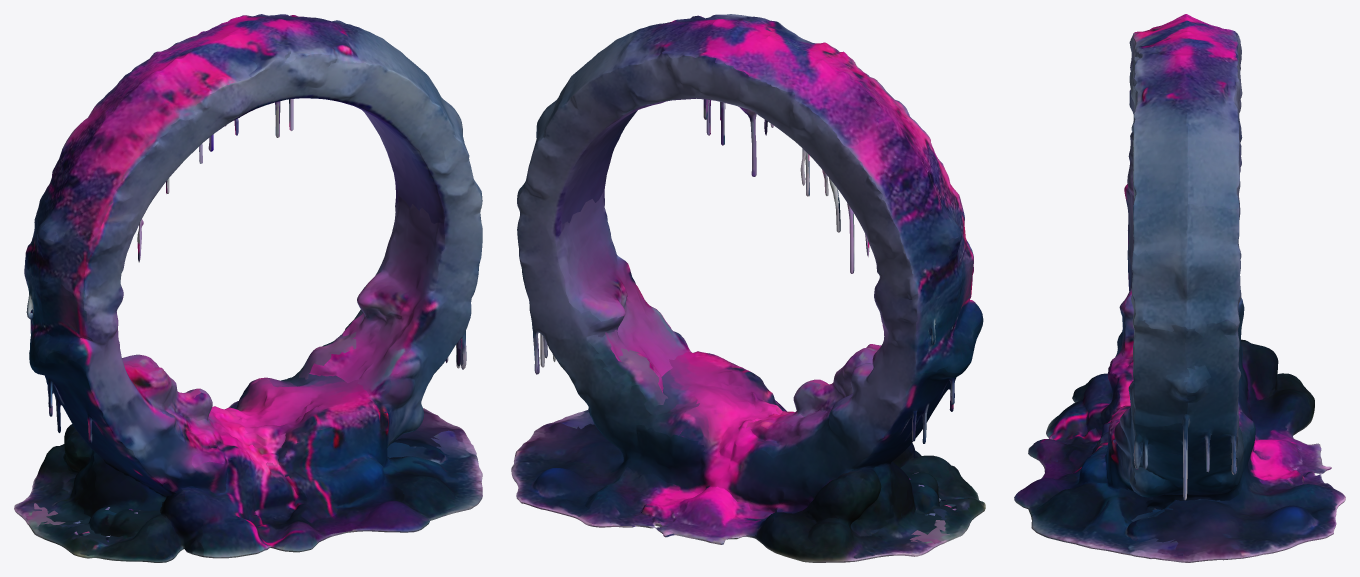
File: broken-ring-generated-2026-05-17T21-08-20-319Z.high.glb
3 renders of one model, left to right at view 1: azimuth 30°, elevation 25°; view 2: azimuth 150°, elevation 25°; view 3: azimuth 270°, elevation 25°, orthographic. The views are drawn at different scales.
Parts seen in each view (by area): view 1: temp_mesh.ply; view 2: temp_mesh.ply; view 3: temp_mesh.ply.
Part boxes in pixels (left/top/right/bottom): temp_mesh.ply: left=14, top=14, right=482, bottom=562; temp_mesh.ply: left=511, top=14, right=985, bottom=562; temp_mesh.ply: left=1014, top=14, right=1345, bottom=562.
Size of the model in its own units: 1.97 by 1.94 by 1.36.
Materials: 1 (1 with a texture image).
